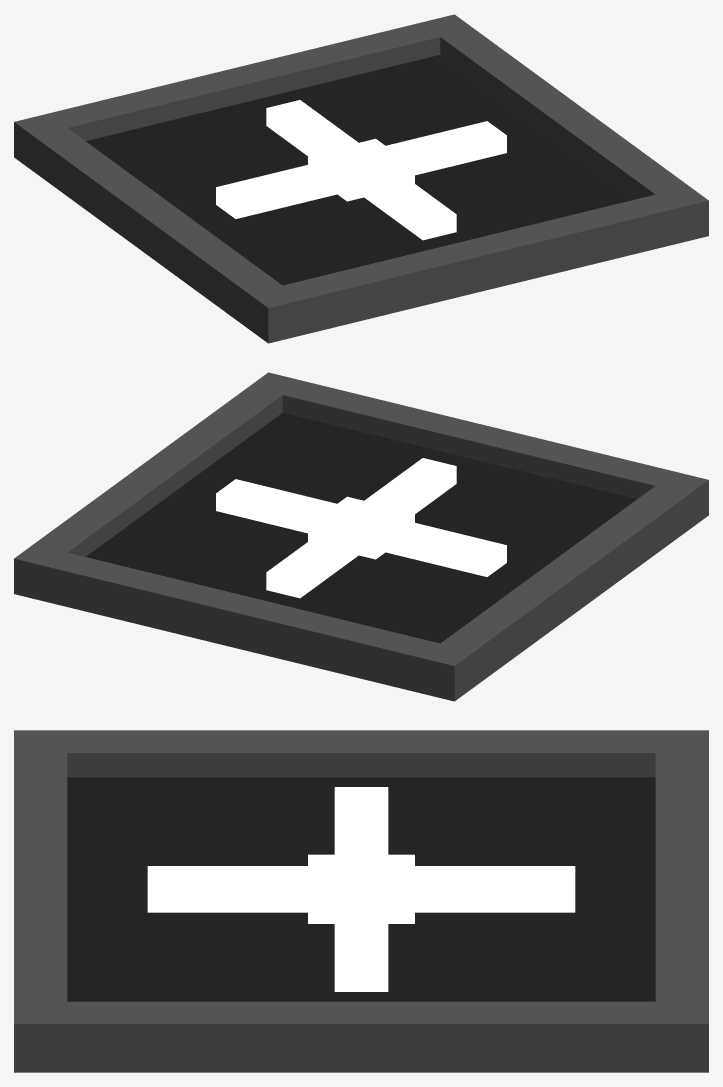
The model's file is trap_LARGE_DOT_WHITE.glb.
3 renders of one model, top to bottom at view 1: azimuth 30°, elevation 25°; view 2: azimuth 150°, elevation 25°; view 3: azimuth 270°, elevation 25°, orthographic. The views are drawn at different scales.
Visible parts, largest first — view 1: item_TRAP_LARGE_DOT_WHITE; view 2: item_TRAP_LARGE_DOT_WHITE; view 3: item_TRAP_LARGE_DOT_WHITE.
Part boxes in pixels (x1=…): item_TRAP_LARGE_DOT_WHITE: x1=14, y1=14, x2=708, y2=343; item_TRAP_LARGE_DOT_WHITE: x1=14, y1=372, x2=708, y2=701; item_TRAP_LARGE_DOT_WHITE: x1=14, y1=730, x2=708, y2=1072.
Bounding box in the file's own units: 0.5909 × 0.0455 × 0.5909.
1 material, 1 textured.
